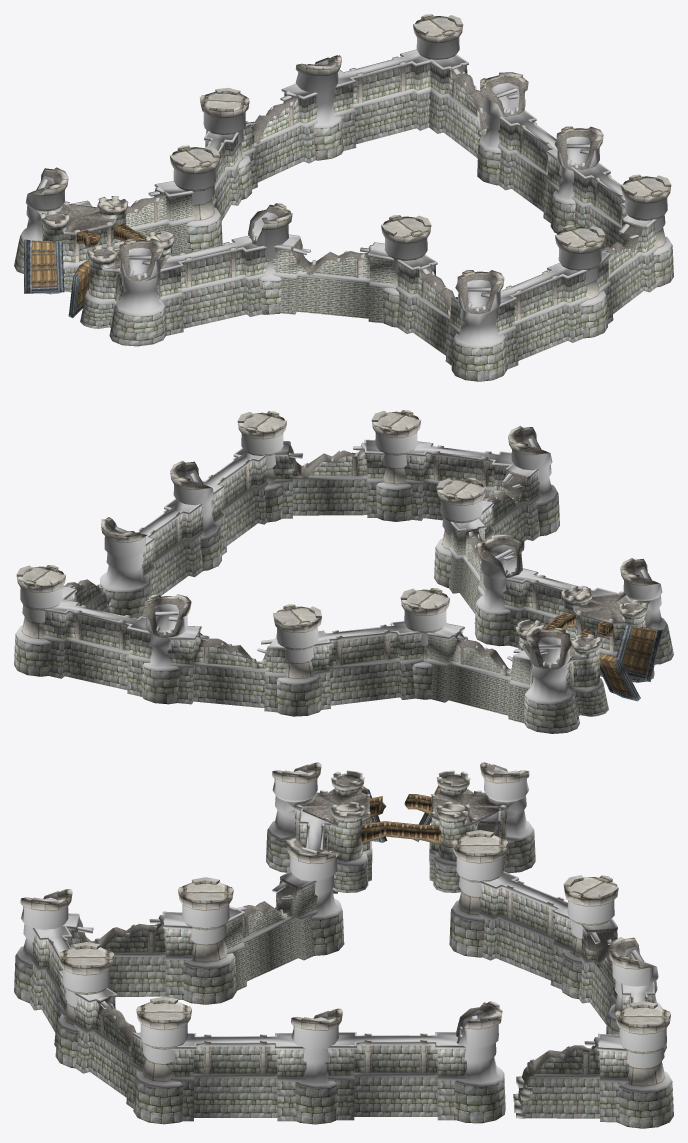
File: fenriskeep.obj
3 views of the same model, one above another, from view 1: azimuth 30°, elevation 25°; view 2: azimuth 150°, elevation 25°; view 3: azimuth 270°, elevation 25° (orthographic). The views are drawn at different scales.
Visible parts, largest first — view 1: FenrisKeep; view 2: FenrisKeep; view 3: FenrisKeep.
Boxes of the visible parts, x1,y1,x2,y2 form: FenrisKeep: (14, 14, 673, 381); FenrisKeep: (14, 410, 673, 733); FenrisKeep: (14, 762, 673, 1128).
Size of the model in its own units: 233 by 40.05 by 225.
